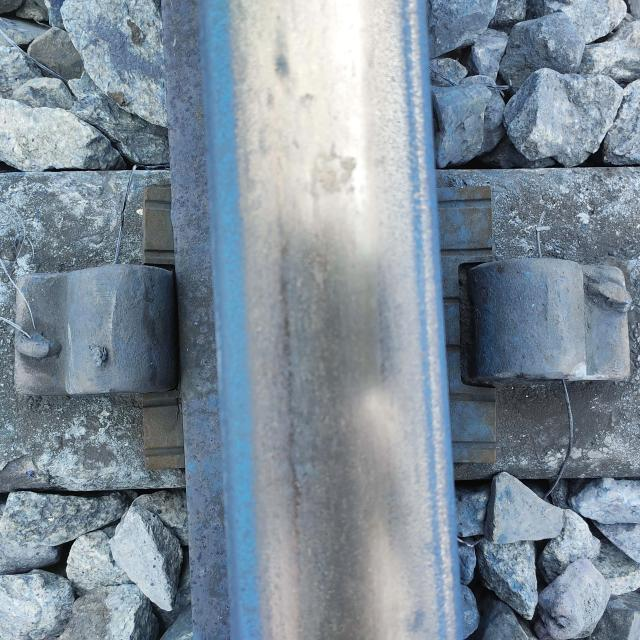Missing Fastener: (452, 220, 640, 404), (6, 244, 181, 430)
